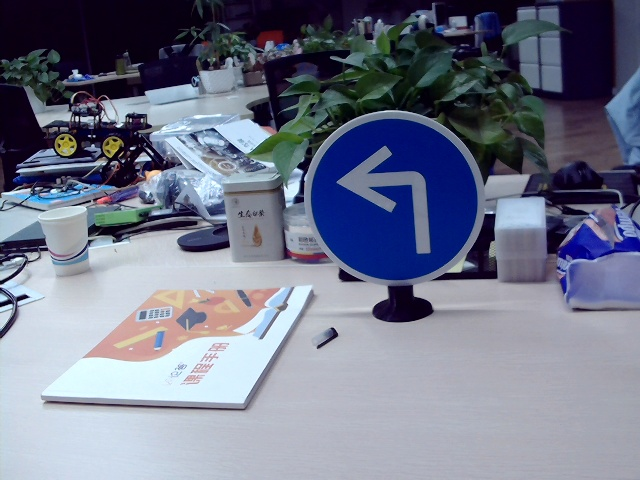turn_left: (339, 142, 435, 253)
